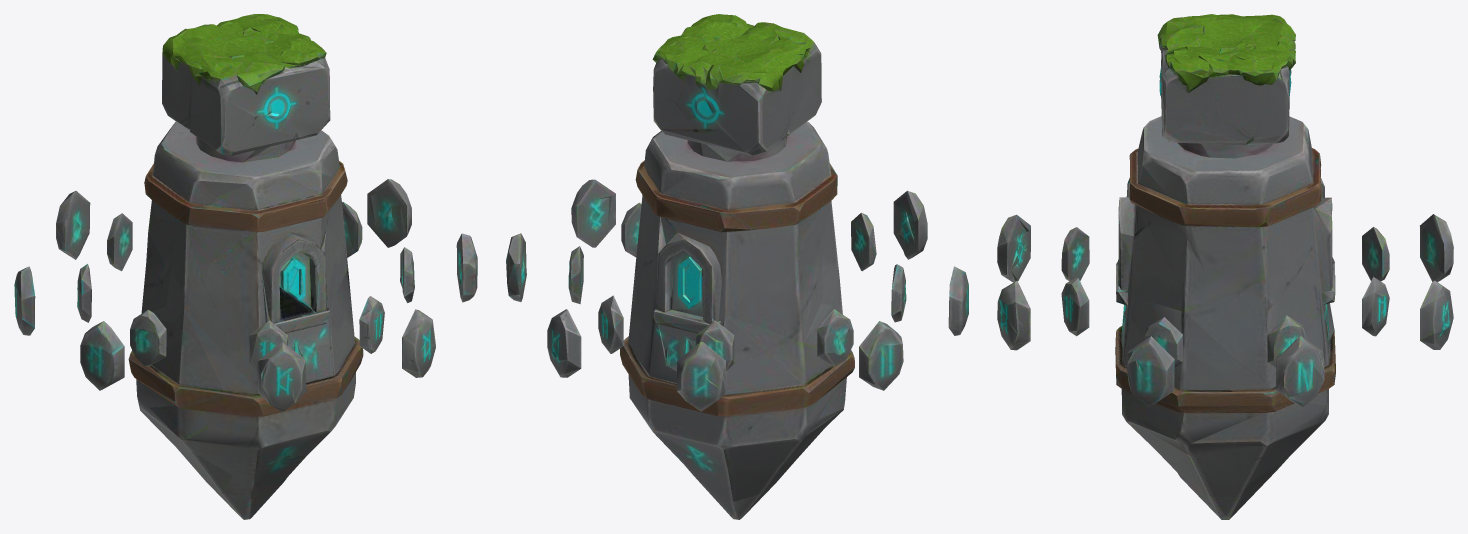
Rendered from rune_sentinel.glb.
The picture shows the model from 3 angles, left to right: view 1: azimuth 30°, elevation 25°; view 2: azimuth 150°, elevation 25°; view 3: azimuth 270°, elevation 25°; orthographic projection.
Size of the model in its own units: 1.62 by 1.89 by 1.62.
1 material, 1 textured.
